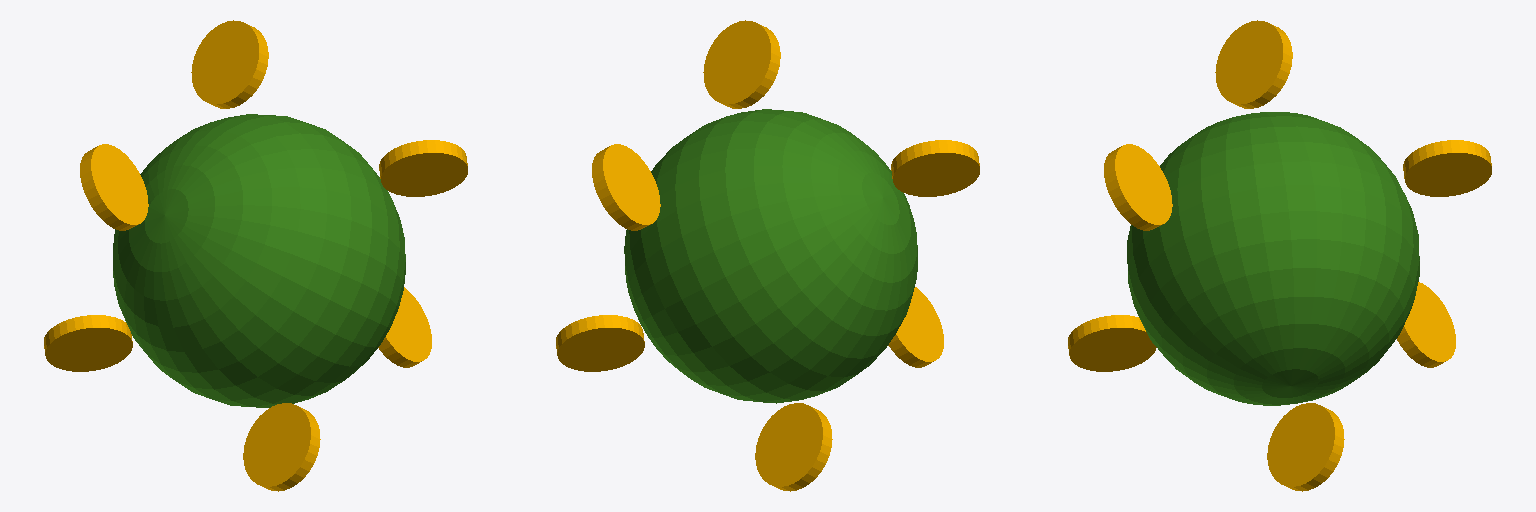
The robot description file, URDF, robot "onshape":
<robot name="onshape">
    
    <link name="fake_dummy_body:1">
        <visual>
            <origin xyz="0 0 0" rpy="-0.785398 -0.61548 1.19113" />
            <geometry>
                <sphere radius="0.1"/>
            </geometry>
            <material name="fake_dummy_body:1_material">
                <color rgba="0.282353 0.54902 0.160784 1.0"/>
            </material>
        </visual>
        <collision>
            <origin xyz="0 0 0" rgba="1 0 0 0.5" />
            <geometry>
                <sphere radius="0.1"/>
            </geometry>
            <material name="fake_dummy_body:1_material">
                <color rgba="0.282353 0.54902 0.160784 1.0"/>
            </material>
        </collision>
        <inertial>
            <origin xyz="0 0 0" rpy="0 0 0"/>
            <mass value="0.0737312" />
            <inertia ixx="0.00107839" ixy="-2.72753e-07" ixz="-6.10453e-07" iyy="0.00107874" iyz="-3.33412e-07" izz="0.00107814" />
        </inertial>
    </link>

    <link name="rev_joint:1">
        <visual>
            <origin xyz="0 0 0" rpy="3.14159 0 0" />
            <geometry>
                <cylinder radius="0.03" length="0.01"/>
            </geometry>
            <material name="rev_joint:1_material">
                <color rgba="0.980392 0.713725 0.00392157 1.0"/>
            </material>
        </visual>
        <collision>
            <origin xyz="0 0 0" rpy="3.14159 0 0" />
            <geometry>
                <cylinder radius="0.03" length="0.01"/>
            </geometry>
            <material name="rev_joint:1_material">
                <color rgba="0.980392 0.713725 0.00392157 1.0"/>
            </material>
        </collision>
        <inertial>
            <origin xyz="0.0438631 0 -0.000928357" rpy="0 0 0"/>
            <mass value="0.00153243" />
            <inertia ixx="1.18928e-06" ixy="1.25481e-22" ixz="-8.58241e-08" iyy="2.31952e-06" iyz="1.38287e-22" izz="2.36022e-06" />
        </inertial>
    </link>

    <link name="member:1">
        <visual>
            <origin xyz="0 0 -0.5" rpy="0 -0 0" />
            <geometry>
                <mesh filename="package://member:1.stl"/>
            </geometry>
            <material name="member:1_material">
                <color rgba="0 0 1 1.0"/>
            </material>
        </visual>
        <collision>
            <origin xyz="0 0 -0.5" rpy="0 -0 0" />
            <geometry>
                <mesh filename="package://member:1.stl"/>
            </geometry>
            <material name="member:1_material">
                <color rgba="0 0 1 1.0"/>
            </material>
            <surface>
                <friction>
                <ode>
                    <mu>1</mu>
                    <mu2>0.5</mu2>
                </ode>
                </friction>
            </surface>
        </collision>
        <inertial>
            <origin xyz="0 0 -0.402703" rpy="0 0 0"/>
            <mass value="6.54356" />
            <inertia ixx="0.175312" ixy="-1.94635e-17" ixz="0" iyy="0.175312" iyz="1.82947e-09" izz="0.0193419" />
        </inertial>
    </link>

    <joint name="pri1" type="prismatic">
        <origin xyz="0.1 0 0" rpy="1.5708 0 -1.5708" />
        <parent link="rev_joint:1" />
        <child link="member:1" />
        <axis xyz="0 0 1"/>
        <limit effort="1" velocity="20" lower="-1" upper="0"/>
        <joint_properties friction="0.0"/>
    </joint>

    <joint name="rev1" type="revolute">
        <origin xyz="0.121208 0.0219977 -0.0845971" rpy="0.785398 0.61548 0.143931" />
        <parent link="fake_dummy_body:1" />
        <child link="rev_joint:1" />
        <axis xyz="0 0 1"/>
        <limit effort="1" velocity="20" lower="-1" upper="1"/>
        <joint_properties friction="0.0"/>
    </joint>

    <link name="rev_joint:1_2">
        <visual>
            <origin xyz="0 0 0" rpy="-3.14159 -0 -0" />
            <geometry>
                <cylinder radius="0.03" length="0.01"/>
            </geometry>
            <material name="rev_joint:1_material">
                <color rgba="0.980392 0.713725 0.00392157 1.0"/>
            </material>
        </visual>
        <collision>
            <origin xyz="0 0 0" rpy="-3.14159 -0 -0" />
            <geometry>
                <cylinder radius="0.03" length="0.01"/>
            </geometry>
            <material name="rev_joint:1_material">
                <color rgba="0.980392 0.713725 0.00392157 1.0"/>
            </material>
        </collision>
        <inertial>
            <origin xyz="0.0438631 0 -0.000928357" rpy="0 0 0"/>
            <mass value="0.00153243" />
            <inertia ixx="1.18928e-06" ixy="2.56032e-22" ixz="-8.58241e-08" iyy="2.31952e-06" iyz="-7.26909e-24" izz="2.36022e-06" />
        </inertial>
    </link>

    <link name="member:1_2">
        <visual>
            <origin xyz="0 0 -0.5" rpy="0 0 0" />
            <geometry>
                <mesh filename="package://member:1.stl"/>
            </geometry>
            <material name="member:1_material">
                <color rgba="0 0 1 1.0"/>
            </material>
        </visual>
        <collision>
            <origin xyz="0 0 -0.5" rpy="0 0 0" />
            <geometry>
                <mesh filename="package://member:1.stl"/>
            </geometry>
            <material name="member:1_material">
                <color rgba="0 0 1 1.0"/>
            </material>
            <surface>
                <friction>
                <ode>
                    <mu>1</mu>
                    <mu2>0.5</mu2>
                </ode>
                </friction>
            </surface>
        </collision>
        <inertial>
            <origin xyz="-9.8046e-17 0 -0.402703" rpy="0 0 0"/>
            <mass value="6.54356" />
            <inertia ixx="0.175312" ixy="-9.73176e-18" ixz="3.78533e-17" iyy="0.175312" iyz="1.82947e-09" izz="0.0193419" />
        </inertial>
    </link>

    <joint name="pri2" type="prismatic">
        <origin xyz="0.1 0 0" rpy="1.5708 0 -1.5708" />
        <parent link="rev_joint:1_2" />
        <child link="member:1_2" />
        <axis xyz="0 0 1"/>
        <limit effort="1" velocity="20" lower="-1" upper="0"/>
        <joint_properties friction="0.0"/>
    </joint>

    <joint name="rev2" type="revolute">
        <origin xyz="-0.0453905 -0.109322 -0.0845971" rpy="0.785398 0.61548 -1.95046" />
        <parent link="fake_dummy_body:1" />
        <child link="rev_joint:1_2" />
        <axis xyz="0 0 1"/>
        <limit effort="1" velocity="20" lower="-1" upper="1"/>
        <joint_properties friction="0.0"/>
    </joint>

    <link name="rev_joint:1_3">
        <visual>
            <origin xyz="0 0 0" rpy="-3.14159 -0 0" />
            <geometry>
                <cylinder radius="0.03" length="0.01"/>
            </geometry>
            <material name="rev_joint:1_material">
                <color rgba="0.980392 0.713725 0.00392157 1.0"/>
            </material>
        </visual>
        <collision>
            <origin xyz="0 0 0" rpy="-3.14159 -0 0" />
            <geometry>
                <cylinder radius="0.03" length="0.01"/>
            </geometry>
            <material name="rev_joint:1_material">
                <color rgba="0.980392 0.713725 0.00392157 1.0"/>
            </material>
        </collision>
        <inertial>
            <origin xyz="0.0438631 0 -0.000928357" rpy="0 0 0"/>
            <mass value="0.00153243" />
            <inertia ixx="1.18928e-06" ixy="-4.76419e-24" ixz="-8.58241e-08" iyy="2.31952e-06" iyz="2.59777e-22" izz="2.36022e-06" />
        </inertial>
    </link>

    <link name="member:1_3">
        <visual>
            <origin xyz="0 0 -0.5" rpy="0 -0 0" />
            <geometry>
                <mesh filename="package://member:1.stl"/>
            </geometry>
            <material name="member:1_material">
                <color rgba="0 0 1 1.0"/>
            </material>
        </visual>
        <collision>
            <origin xyz="0 0 -0.5" rpy="0 -0 0" />
            <geometry>
                <mesh filename="package://member:1.stl"/>
            </geometry>
            <material name="member:1_material">
                <color rgba="0 0 1 1.0"/>
            </material>
            <surface>
                <friction>
                <ode>
                    <mu>1</mu>
                    <mu2>0.5</mu2>
                </ode>
                </friction>
            </surface>
        </collision>
        <inertial>
            <origin xyz="0 0 -0.402703" rpy="0 0 0"/>
            <mass value="6.54356" />
            <inertia ixx="0.175312" ixy="-1.94635e-17" ixz="0" iyy="0.175312" iyz="1.82947e-09" izz="0.0193419" />
        </inertial>
    </link>

    <joint name="pri3" type="prismatic">
        <origin xyz="0.1 0 0" rpy="-3.14159 1.5708 0" />
        <parent link="rev_joint:1_3" />
        <child link="member:1_3" />
        <axis xyz="0 0 1"/>
        <limit effort="1" velocity="20" lower="-1" upper="0"/>
        <joint_properties friction="0.0"/>
    </joint>

    <joint name="rev3" type="revolute">
        <origin xyz="-0.0758176 0.100616 -0.0845971" rpy="-2.35619 0.61548 2.23833" />
        <parent link="fake_dummy_body:1" />
        <child link="rev_joint:1_3" />
        <axis xyz="0 0 1"/>
        <limit effort="1" velocity="20" lower="-1" upper="1"/>
        <joint_properties friction="0.0"/>
    </joint>

    <link name="rev_joint:1_4">
        <visual>
            <origin xyz="0 0 0" rpy="3.14159 -0 0" />
            <geometry>
                <cylinder radius="0.03" length="0.01"/>
            </geometry>
            <material name="rev_joint:1_material">
                <color rgba="0.980392 0.713725 0.00392157 1.0"/>
            </material>
        </visual>
        <collision>
            <origin xyz="0 0 0" rpy="3.14159 -0 0" />
            <geometry>
                <cylinder radius="0.03" length="0.01"/>
            </geometry>
            <material name="rev_joint:1_material">
                <color rgba="0.980392 0.713725 0.00392157 1.0"/>
            </material>
        </collision>
        <inertial>
            <origin xyz="0.0438631 0 -0.000928357" rpy="0 0 0"/>
            <mass value="0.00153243" />
            <inertia ixx="1.18928e-06" ixy="7.07826e-23" ixz="-8.58241e-08" iyy="2.31952e-06" iyz="-3.93301e-22" izz="2.36022e-06" />
        </inertial>
    </link>

    <link name="member:1_4">
        <visual>
            <origin xyz="0 0 -0.5" rpy="0 -0 -0" />
            <geometry>
                <mesh filename="package://member:1.stl"/>
            </geometry>
            <material name="member:1_material">
                <color rgba="0 0 1 1.0"/>
            </material>
        </visual>
        <collision>
            <origin xyz="0 0 -0.5" rpy="0 -0 -0" />
            <geometry>
                <mesh filename="package://member:1.stl"/>
            </geometry>
            <material name="member:1_material">
                <color rgba="0 0 1 1.0"/>
            </material>
            <surface>
                <friction>
                <ode>
                    <mu>1</mu>
                    <mu2>0.5</mu2>
                </ode>
                </friction>
            </surface>
        </collision>
        <inertial>
            <origin xyz="0 0 -0.402703" rpy="0 0 0"/>
            <mass value="6.54356" />
            <inertia ixx="0.175312" ixy="-5.30476e-24" ixz="-1.83898e-17" iyy="0.175312" iyz="1.82947e-09" izz="0.0193419" />
        </inertial>
    </link>

    <joint name="pri4" type="prismatic">
        <origin xyz="0.1 0 0" rpy="-3.14159 1.5708 0" />
        <parent link="rev_joint:1_4" />
        <child link="member:1_4" />
        <axis xyz="0 0 1"/>
        <limit effort="1" velocity="20" lower="-1" upper="0"/>
        <joint_properties friction="0.0"/>
    </joint>

    <joint name="rev4" type="revolute">
        <origin xyz="0.0758176 -0.0917551 0.088608" rpy="-0.785398 -0.61548 -0.903267" />
        <parent link="fake_dummy_body:1" />
        <child link="rev_joint:1_4" />
        <axis xyz="0 0 1"/>
        <limit effort="1" velocity="20" lower="-1" upper="1"/>
        <joint_properties friction="0.0"/>
    </joint>

    <link name="rev_joint:1_5">
        <visual>
            <origin xyz="0 0 0" rpy="3.14159 0 0" />
            <geometry>
                <cylinder radius="0.03" length="0.01"/>
            </geometry>
            <material name="rev_joint:1_material">
                <color rgba="0.980392 0.713725 0.00392157 1.0"/>
            </material>
        </visual>
        <collision>
            <origin xyz="0 0 0" rpy="3.14159 0 0" />
            <geometry>
                <cylinder radius="0.03" length="0.01"/>
            </geometry>
            <material name="rev_joint:1_material">
                <color rgba="0.980392 0.713725 0.00392157 1.0"/>
            </material>
        </collision>
        <inertial>
            <origin xyz="0.0438631 0 -0.000928357" rpy="0 0 0"/>
            <mass value="0.00153243" />
            <inertia ixx="1.18928e-06" ixy="2.64074e-22" ixz="-8.58241e-08" iyy="2.31952e-06" iyz="-1.90568e-23" izz="2.36022e-06" />
        </inertial>
    </link>

    <link name="member:1_5">
        <visual>
            <origin xyz="0 0 -0.5" rpy="0 -0 0" />
            <geometry>
                <mesh filename="package://member:1.stl"/>
            </geometry>
            <material name="member:1_material">
                <color rgba="0 0 1 1.0"/>
            </material>
        </visual>
        <collision>
            <origin xyz="0 0 -0.5" rpy="0 -0 0" />
            <geometry>
                <mesh filename="package://member:1.stl"/>
            </geometry>
            <material name="member:1_material">
                <color rgba="0 0 1 1.0"/>
            </material>
            <surface>
                <friction>
                <ode>
                    <mu>1</mu>
                    <mu2>0.5</mu2>
                </ode>
                </friction>
            </surface>
        </collision>
        <inertial>
            <origin xyz="0 0 -0.402703" rpy="0 0 0"/>
            <mass value="6.54356" />
            <inertia ixx="0.175312" ixy="2.91953e-17" ixz="-8.65807e-18" iyy="0.175312" iyz="1.82947e-09" izz="0.0193419" />
        </inertial>
    </link>

    <joint name="pri5" type="prismatic">
        <origin xyz="0.1 0 0" rpy="1.5708 0 -1.5708" />
        <parent link="rev_joint:1_5" />
        <child link="member:1_5" />
        <axis xyz="0 0 1"/>
        <limit effort="1" velocity="20" lower="-1" upper="0"/>
        <joint_properties friction="0.0"/>
    </joint>

    <joint name="rev5" type="revolute">
        <origin xyz="0.0453905 0.118183 0.088608" rpy="2.35619 -0.61548 1.19113" />
        <parent link="fake_dummy_body:1" />
        <child link="rev_joint:1_5" />
        <axis xyz="0 0 1"/>
        <limit effort="1" velocity="20" lower="-1" upper="1"/>
        <joint_properties friction="0.0"/>
    </joint>

    <link name="rev_joint:1_6">
        <visual>
            <origin xyz="0 0 0" rpy="-3.14159 -0 -0" />
            <geometry>
                <cylinder radius="0.03" length="0.01"/>
            </geometry>
            <material name="rev_joint:1_material">
                <color rgba="0.980392 0.713725 0.00392157 1.0"/>
            </material>
        </visual>
        <collision>
            <origin xyz="0 0 0" rpy="-3.14159 -0 -0" />
            <geometry>
                <cylinder radius="0.03" length="0.01"/>
            </geometry>
            <material name="rev_joint:1_material">
                <color rgba="0.980392 0.713725 0.00392157 1.0"/>
            </material>
        </collision>
        <inertial>
            <origin xyz="0.0438631 0 -0.000928357" rpy="0 0 0"/>
            <mass value="0.00153243" />
            <inertia ixx="1.18928e-06" ixy="2.51268e-22" ixz="-8.58241e-08" iyy="2.31952e-06" iyz="1.23749e-22" izz="2.36022e-06" />
        </inertial>
    </link>

    <link name="member:1_6">
        <visual>
            <origin xyz="0 0 -0.5" rpy="0 0 0" />
            <geometry>
                <mesh filename="package://member:1.stl"/>
            </geometry>
            <material name="member:1_material">
                <color rgba="0 0 1 1.0"/>
            </material>
        </visual>
        <collision>
            <origin xyz="0 0 -0.5" rpy="0 0 0" />
            <geometry>
                <mesh filename="package://member:1.stl"/>
            </geometry>
            <material name="member:1_material">
                <color rgba="0 0 1 1.0"/>
            </material>
            <surface>
                <friction>
                <ode>
                    <mu>1</mu>
                    <mu2>0.5</mu2>
                </ode>
                </friction>
            </surface>
        </collision>
        <inertial>
            <origin xyz="0 0 -0.402703" rpy="0 0 0"/>
            <mass value="6.54356" />
            <inertia ixx="0.175312" ixy="-1.09142e-23" ixz="1.83898e-17" iyy="0.175312" iyz="1.82947e-09" izz="0.0193419" />
        </inertial>
    </link>

    <joint name="pri6" type="prismatic">
        <origin xyz="0.1 0 0" rpy="1.5708 0 -1.5708" />
        <parent link="rev_joint:1_6" />
        <child link="member:1_6" />
        <axis xyz="0 0 1"/>
        <limit effort="1" velocity="20" lower="-1" upper="0"/>
        <joint_properties friction="0.0"/>
    </joint>

    <joint name="rev6" type="revolute">
        <origin xyz="-0.121208 -0.0131365 0.088608" rpy="2.35619 -0.61548 -2.99766" />
        <parent link="fake_dummy_body:1" />
        <child link="rev_joint:1_6" />
        <axis xyz="0 0 1"/>
        <limit effort="1" velocity="20" lower="-1" upper="1"/>
        <joint_properties friction="0.0"/>
    </joint>


</robot>

--- Render facts (derived) ---
3 views of the same robot in one strip: view 1: azimuth 30°, elevation 25°; view 2: azimuth 150°, elevation 25°; view 3: azimuth 270°, elevation 25° (orthographic).
Robot: onshape — 13 links, 12 joints (6 revolute, 6 prismatic); root link fake_dummy_body:1; default pose: every joint at zero.
Visible links, largest first — view 1: fake_dummy_body:1, rev_joint:1_2, rev_joint:1_5, rev_joint:1_6, rev_joint:1_4, rev_joint:1_3, rev_joint:1; view 2: fake_dummy_body:1, rev_joint:1_3, rev_joint:1_4, rev_joint:1_5, rev_joint:1, rev_joint:1_6, rev_joint:1_2; view 3: fake_dummy_body:1, rev_joint:1, rev_joint:1_6, rev_joint:1_4, rev_joint:1_5, rev_joint:1_2, rev_joint:1_3.
Boxes of the visible links, bbox=[...] form: fake_dummy_body:1: bbox=[113, 114, 405, 407]; rev_joint:1_2: bbox=[243, 403, 320, 491]; rev_joint:1_5: bbox=[191, 20, 268, 108]; rev_joint:1_6: bbox=[80, 144, 148, 230]; rev_joint:1_4: bbox=[379, 140, 467, 196]; rev_joint:1_3: bbox=[44, 315, 132, 371]; rev_joint:1: bbox=[378, 287, 431, 367]; fake_dummy_body:1: bbox=[624, 109, 917, 403]; rev_joint:1_3: bbox=[755, 403, 832, 491]; rev_joint:1_4: bbox=[703, 20, 780, 108]; rev_joint:1_5: bbox=[592, 144, 660, 230]; rev_joint:1: bbox=[556, 315, 644, 371]; rev_joint:1_6: bbox=[891, 140, 979, 196]; rev_joint:1_2: bbox=[888, 287, 943, 367]; fake_dummy_body:1: bbox=[1127, 112, 1419, 405]; rev_joint:1: bbox=[1267, 403, 1344, 491]; rev_joint:1_6: bbox=[1215, 20, 1292, 108]; rev_joint:1_4: bbox=[1104, 144, 1172, 230]; rev_joint:1_5: bbox=[1403, 140, 1491, 196]; rev_joint:1_2: bbox=[1068, 315, 1156, 371]; rev_joint:1_3: bbox=[1397, 282, 1455, 367].
Bounding box of the posed robot: 0.2992 × 0.2881 × 0.228 m (x, y, z).
Geometry: only primitive shapes (box / cylinder / sphere) drawn; not drawn: 6 mesh visuals (reference in a form the renderer does not follow).